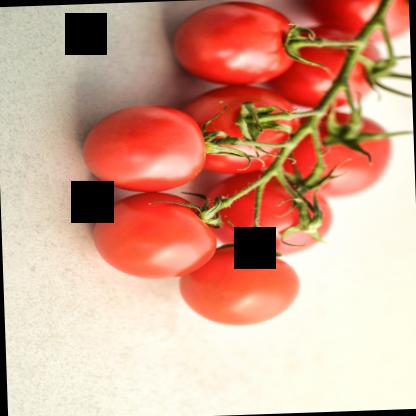tomato: (171, 0, 318, 87), (202, 166, 335, 258), (94, 190, 226, 280), (82, 104, 209, 194), (178, 234, 298, 328), (182, 84, 306, 174), (270, 25, 384, 109), (292, 107, 390, 196)
